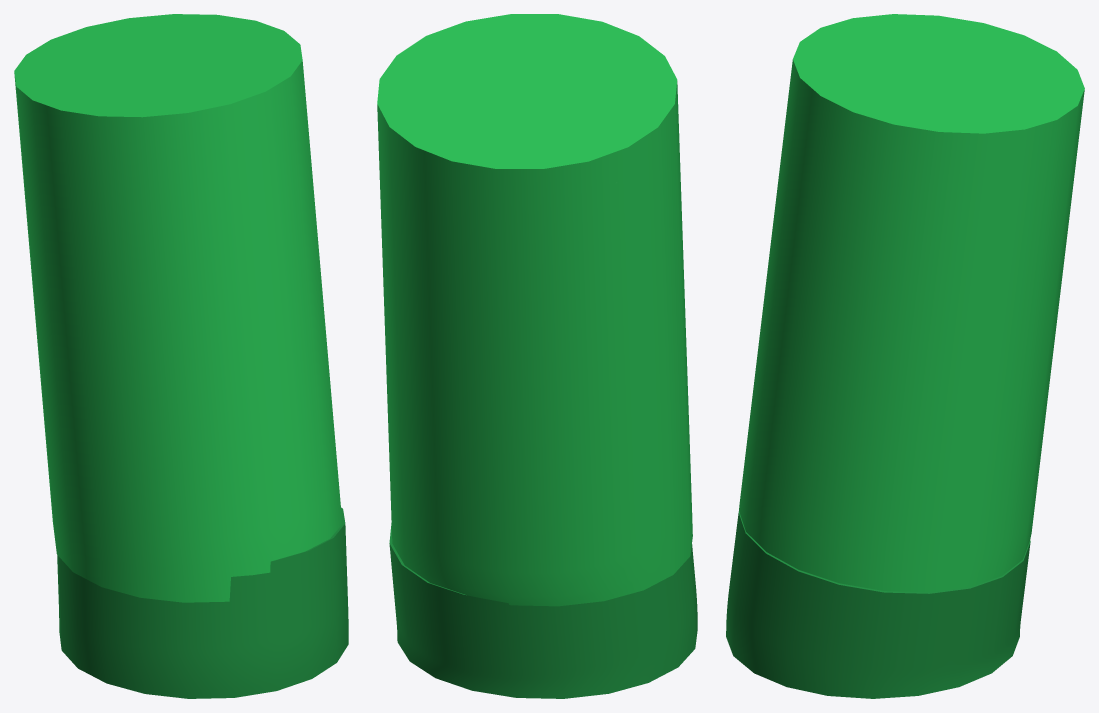
File: Frijolito_PiernaIzq.obj
3 views of the same model, side by side, from view 1: azimuth 30°, elevation 25°; view 2: azimuth 150°, elevation 25°; view 3: azimuth 270°, elevation 25° (orthographic). The views are drawn at different scales.
Visible parts, largest first — view 1: PiernaIzq; view 2: PiernaIzq; view 3: PiernaIzq.
Boxes of the visible parts, bbox=[...] form: PiernaIzq: bbox=[14, 14, 348, 698]; PiernaIzq: bbox=[377, 14, 697, 698]; PiernaIzq: bbox=[726, 14, 1084, 698].
Bounding box in the file's own units: 2.12 × 4.29 × 2.44.
